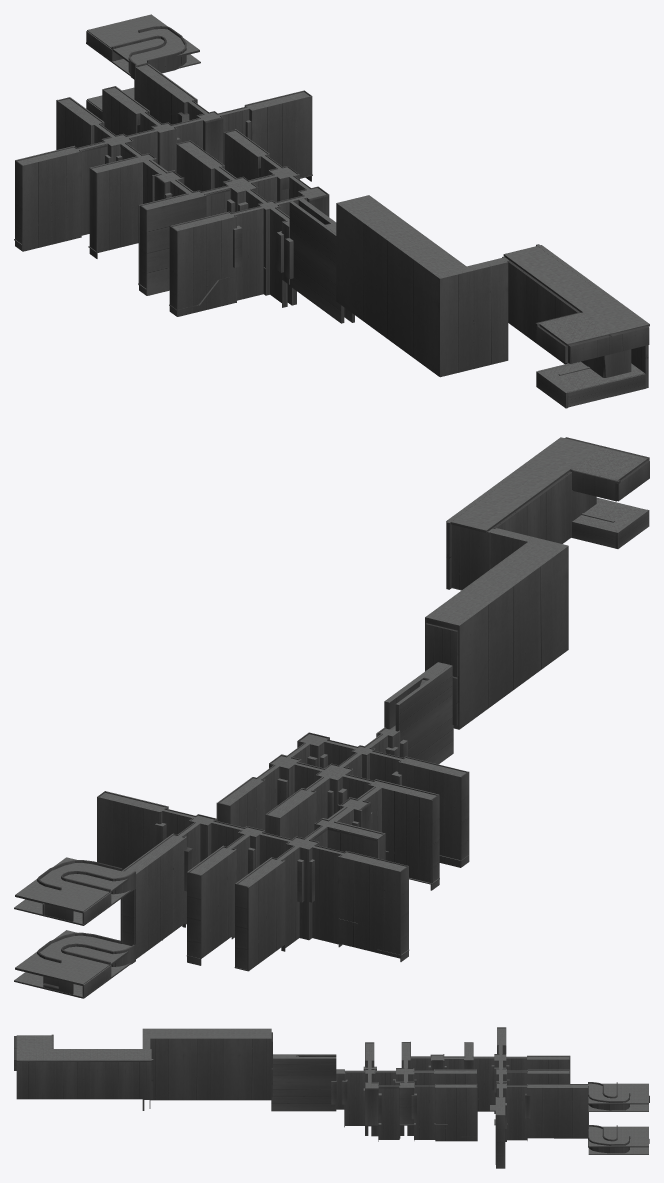
The model's file is Level2Cliffs1.fbx.
The picture shows the model from 3 angles, top to bottom: view 1: azimuth 30°, elevation 25°; view 2: azimuth 150°, elevation 25°; view 3: azimuth 270°, elevation 25°; orthographic projection. The views are drawn at different scales.
Visible parts, largest first — view 1: Cube__121__1, Cube__108_, Cube__272_, Cube__213_, Cube__26_, Cube_026, Cube__165__3, Cube__158__4, Cube__128_, Cube__161_, Cube__351_, Cube__145__1 (+23 smaller); view 2: Cube__121__1, Cube__165__2, Cube__26_, Cube__158__8, Cube__154__20, Cube__128_, Cube_026, Cube__166__2, Cube__158__6, Cube__351_, Cube__351_.001, Cube__158__7 (+20 smaller); view 3: Cube__124_, Cube_013, Cube__150__6, Cube__242_, Cube__146__1, Cube__26_, Cube__146_, Cube__128_, Cube__351_.001, Cube__351_, Cube__239_, Cube__229_ (+21 smaller).
Boxes of the visible parts, <box> form: Cube__121__1: <box>336,203,440,376</box>; Cube__108_: <box>439,261,508,377</box>; Cube__272_: <box>23,151,81,251</box>; Cube__213_: <box>177,216,236,316</box>; Cube__26_: <box>503,245,649,333</box>; Cube_026: <box>507,260,631,377</box>; Cube__165__3: <box>251,96,312,177</box>; Cube__158__4: <box>96,161,144,252</box>; Cube__128_: <box>338,195,465,274</box>; Cube__161_: <box>147,195,206,295</box>; Cube__351_: <box>87,14,199,66</box>; Cube__145__1: <box>289,243,344,323</box>; Cube__121__1: <box>458,545,568,729</box>; Cube__165__2: <box>338,856,400,958</box>; Cube__26_: <box>446,437,600,532</box>; Cube__158__8: <box>133,836,187,958</box>; Cube__154__20: <box>381,787,433,884</box>; Cube__128_: <box>426,539,564,630</box>; Cube_026: <box>492,471,596,543</box>; Cube__166__2: <box>97,796,159,870</box>; Cube__158__6: <box>247,860,285,971</box>; Cube__351_: <box>15,857,131,913</box>; Cube__351_.001: <box>15,930,131,985</box>; Cube__158__7: <box>200,849,236,958</box>; Cube__124_: <box>150,1038,271,1100</box>; Cube_013: <box>16,1059,153,1099</box>; Cube__150__6: <box>527,1087,588,1138</box>; Cube__242_: <box>435,1087,477,1141</box>; Cube__146__1: <box>271,1082,336,1111</box>; Cube__26_: <box>16,1049,151,1061</box>; Cube__146_: <box>273,1057,336,1081</box>; Cube__128_: <box>145,1029,271,1038</box>; Cube__351_.001: <box>588,1126,648,1147</box>; Cube__351_: <box>588,1083,648,1104</box>; Cube__239_: <box>414,1086,435,1139</box>; Cube__229_: <box>378,1086,399,1139</box>.
Bounding box in the file's own units: 19064 × 9496 × 58145.
